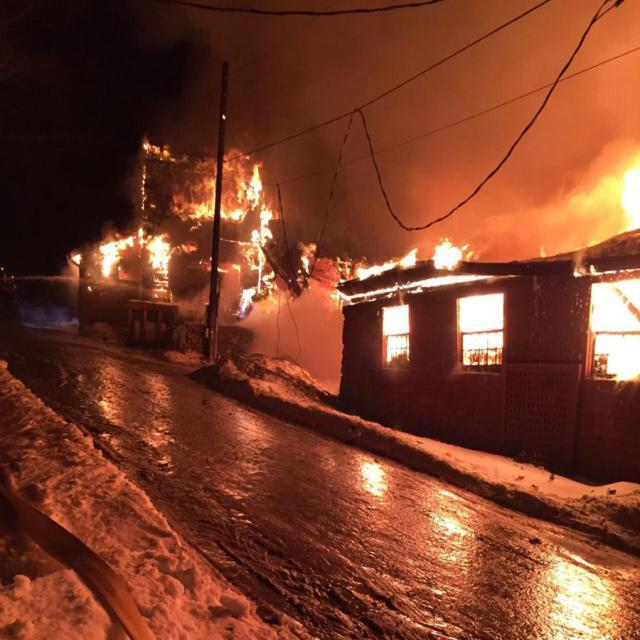Fire: (70, 227, 177, 300), (172, 146, 265, 222), (590, 278, 640, 381), (233, 202, 275, 319), (458, 292, 505, 365), (339, 249, 419, 285), (400, 274, 494, 294), (384, 305, 411, 365), (330, 285, 400, 307), (430, 236, 474, 270), (618, 168, 640, 234), (142, 134, 177, 164), (314, 256, 339, 289), (298, 241, 317, 276), (142, 165, 156, 212), (589, 266, 635, 276), (177, 243, 197, 257), (190, 222, 202, 232), (573, 267, 582, 278), (539, 246, 547, 258), (217, 268, 228, 274)
Smoke: (207, 0, 640, 146), (0, 0, 208, 276), (276, 119, 412, 256), (486, 135, 618, 246), (410, 146, 484, 238), (276, 303, 342, 384), (22, 304, 78, 328)
